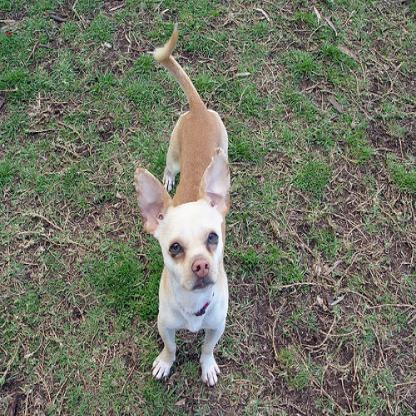dog: (132, 20, 230, 385)
